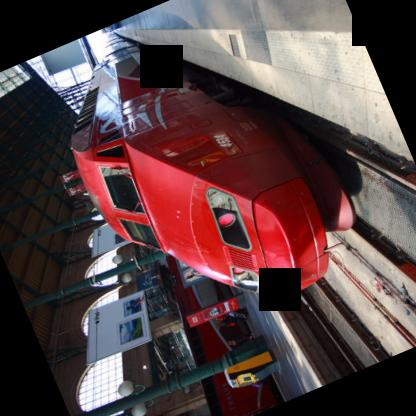suitcase: (236, 311, 247, 317)
